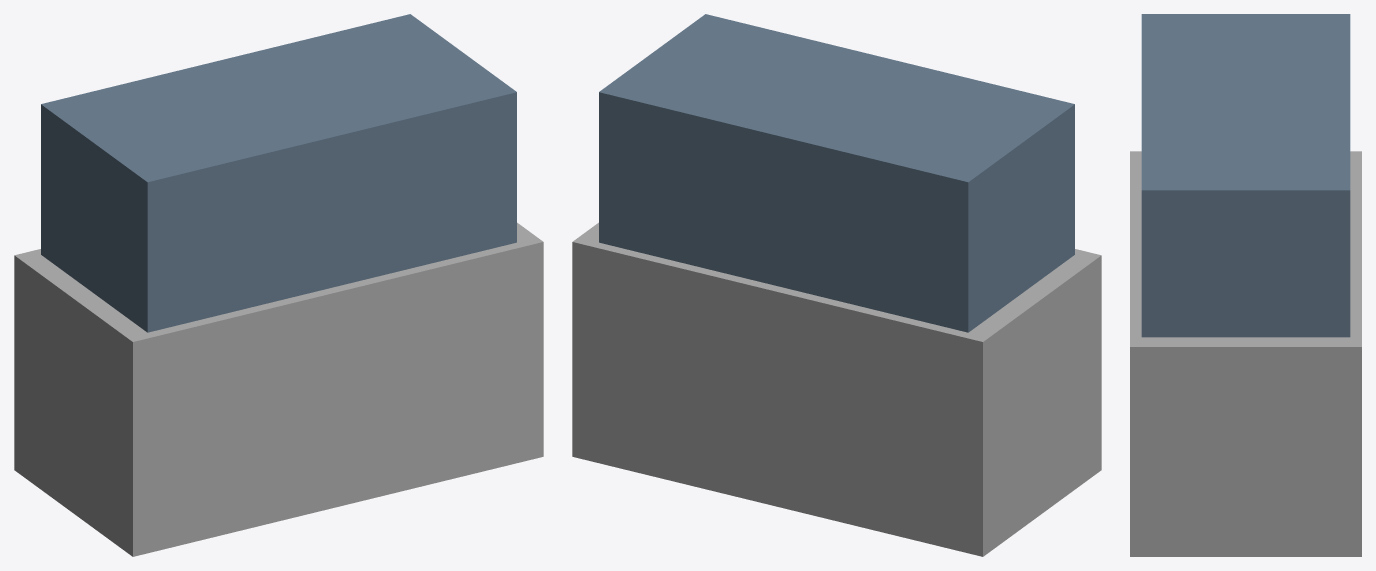
Rendered from museum_case.glb.
3 views of the same model, side by side, from view 1: azimuth 30°, elevation 25°; view 2: azimuth 150°, elevation 25°; view 3: azimuth 270°, elevation 25° (orthographic). The views are drawn at different scales.
Parts seen in each view (by area): view 1: base, glass; view 2: base, glass; view 3: glass, base.
Part boxes in pixels (x1,y1,x2,y2): base: (14,222,543,556); glass: (41,14,516,332); base: (572,222,1101,556); glass: (599,14,1074,332); glass: (1141,14,1350,337); base: (1130,151,1361,556).
Bounding box in the file's own units: 2 × 1.7 × 1.
